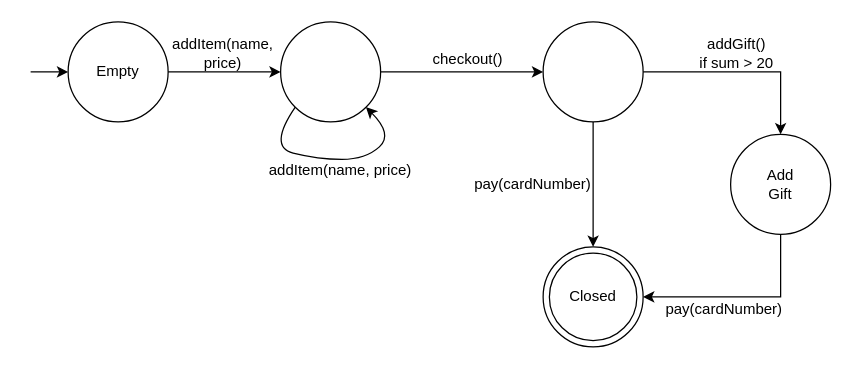
The diagram is 853 pixels wide and 369 high, and some of its shapes have lost their labels. Each missing label, with the centre of its shape:
"Adding Items" goes at (330,71).
"Checkout" goes at (592,71).
